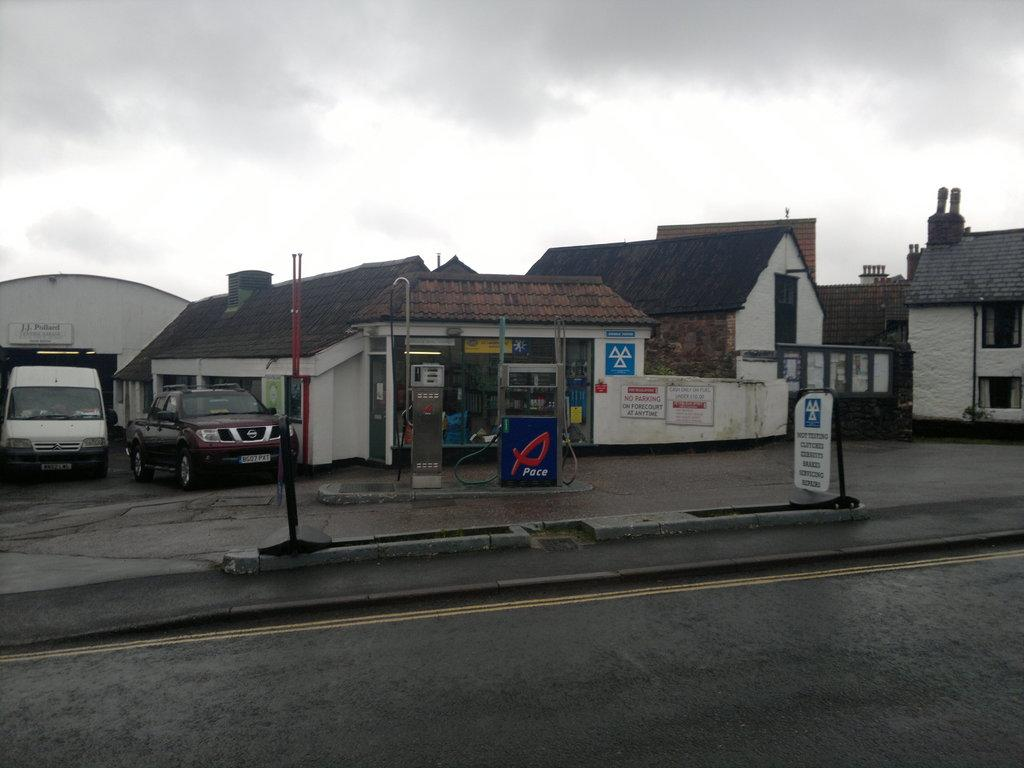vehicle: (126, 383, 299, 489), (0, 366, 119, 481)
